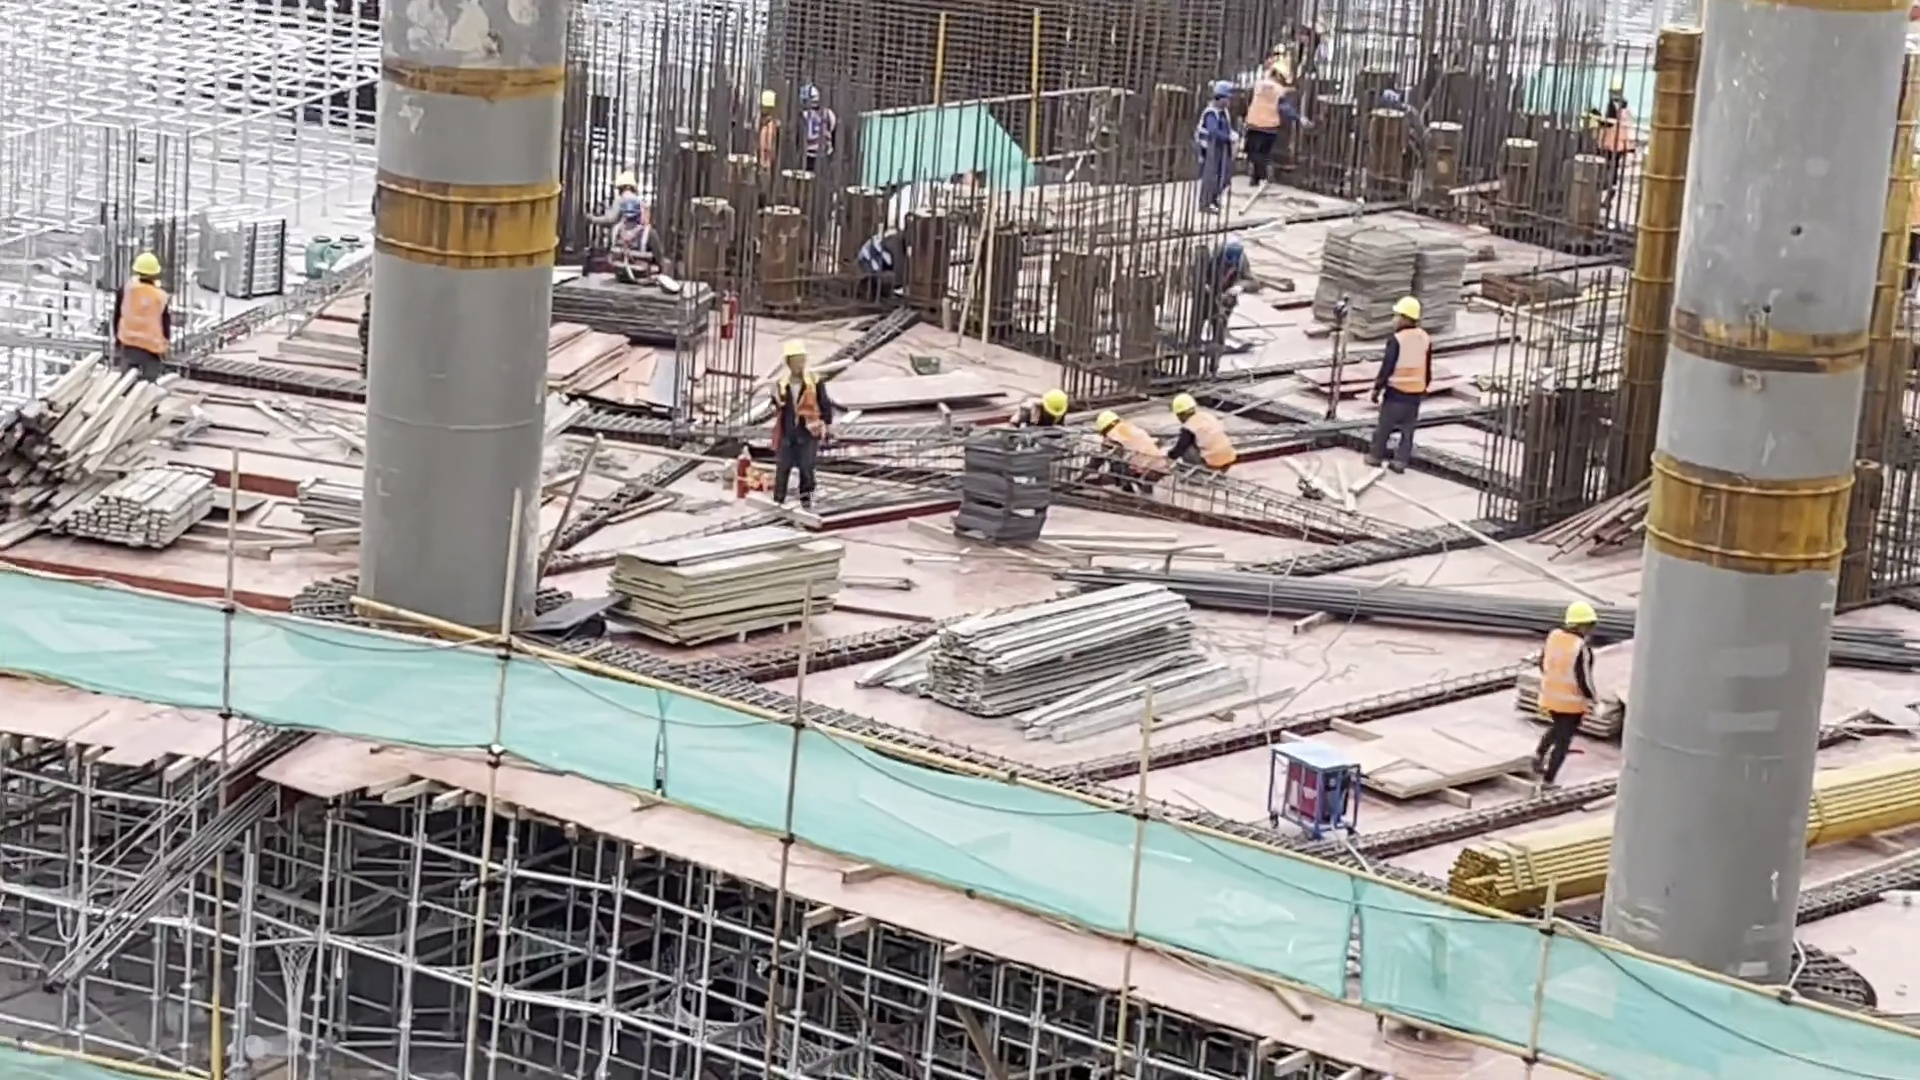helmet: (1565, 596, 1598, 626), (1042, 387, 1069, 418), (1390, 296, 1423, 321), (131, 250, 163, 276), (1095, 407, 1119, 432), (781, 338, 808, 358), (1173, 391, 1196, 415), (1213, 79, 1236, 101), (1271, 58, 1290, 80)
person: (1364, 288, 1433, 483), (1528, 597, 1598, 792), (769, 346, 833, 517), (1238, 59, 1311, 186), (106, 243, 169, 377), (1095, 404, 1170, 503), (1202, 236, 1249, 361), (1173, 394, 1237, 476), (1198, 74, 1229, 219), (793, 81, 837, 176), (615, 196, 662, 281), (1600, 72, 1633, 192), (1009, 390, 1068, 428), (755, 85, 775, 166)
vest: (1542, 626, 1600, 717), (119, 281, 171, 356), (771, 372, 825, 443), (1184, 410, 1240, 470), (1386, 326, 1427, 394), (1248, 85, 1290, 132)
